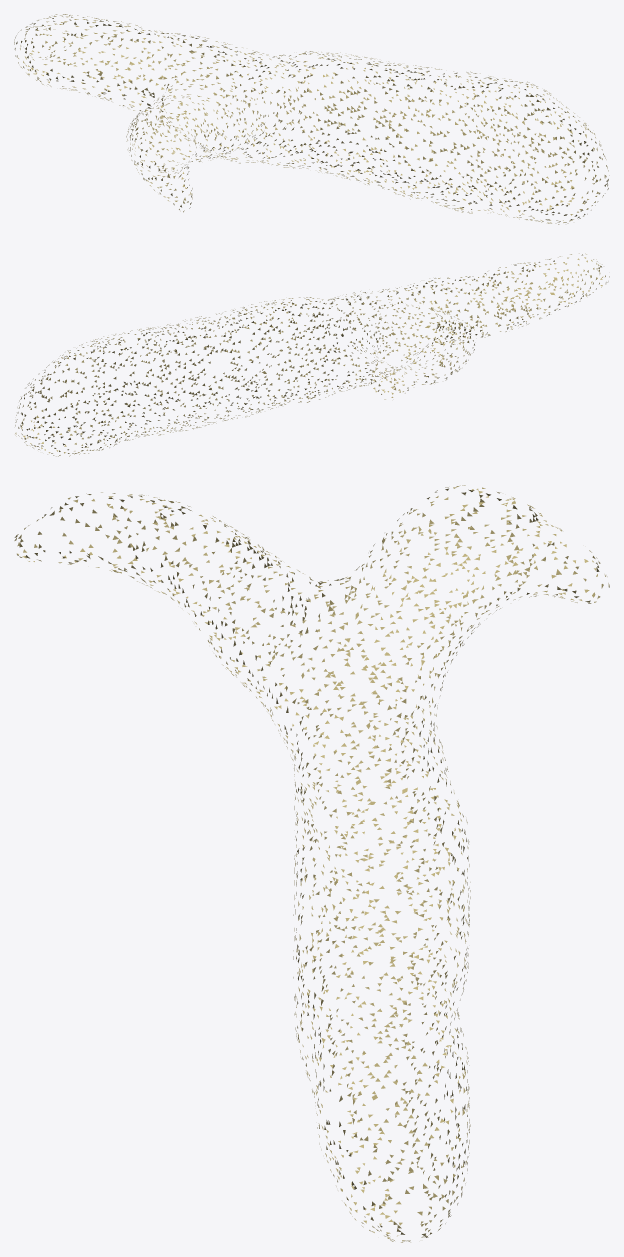
Rendered from morph_008.glb.
3 views of the same model, one above another, from view 1: azimuth 30°, elevation 25°; view 2: azimuth 150°, elevation 25°; view 3: azimuth 270°, elevation 25° (orthographic). The views are drawn at different scales.
Bounding box in the file's own units: 125 × 61.21 × 80.69.
